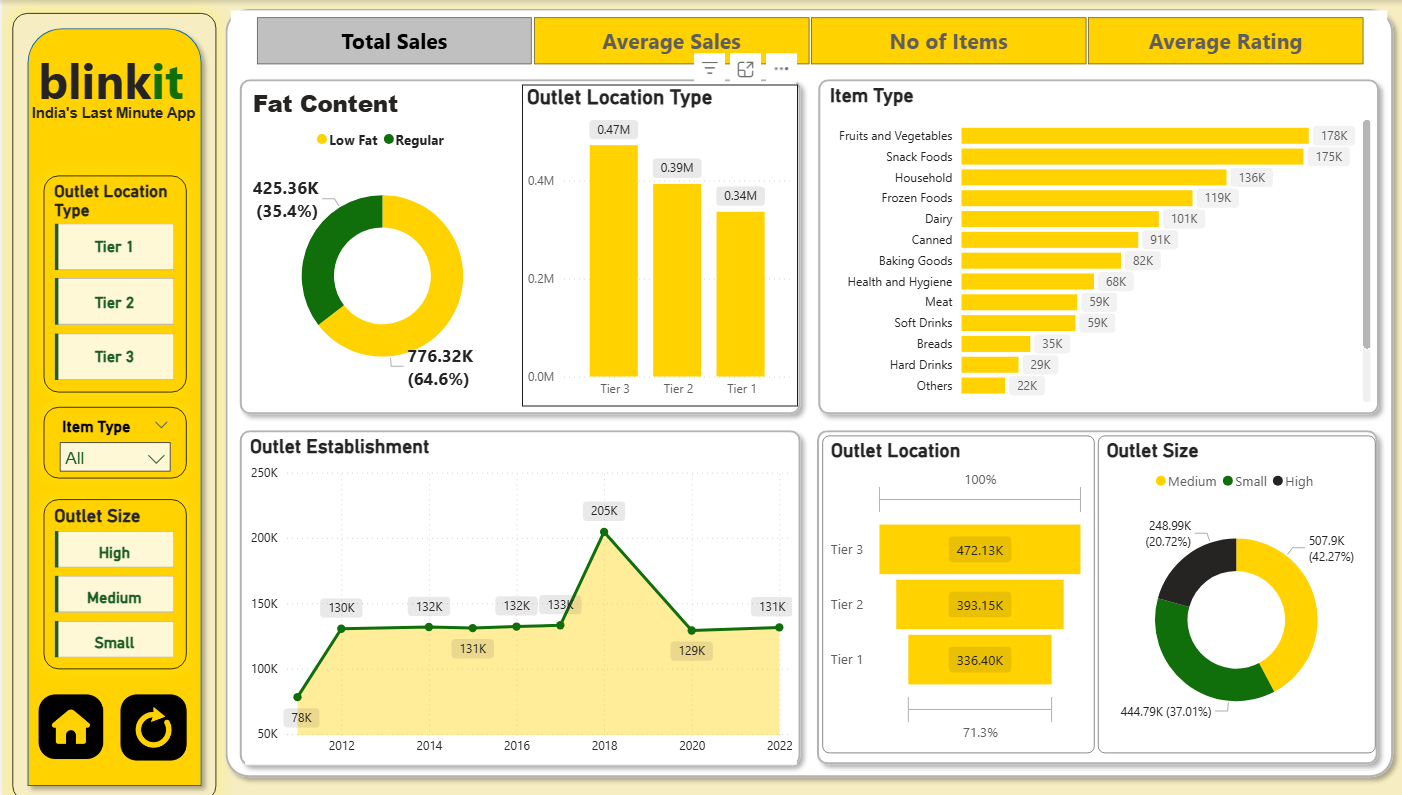

The page's visual inventory and layout, read from the dashboard file:
{"tool":"powerbi","page":{"name":"Page 1","canvas":[1400,800],"ordinal":0},"visuals":[{"type":"shape","box":[10.4,13,204,787.6],"z":0},{"type":"textbox","box":[31,41,175.1,86.1],"z":1000},{"type":"textbox","box":[24.7,97.5,204,39],"z":2000},{"type":"shape","box":[215,0,1185.3,785.9],"z":3000},{"type":"slicer","fields":{"Values":["Metrics.Metrics"]},"box":[228.7,9.9,1156.2,60.7],"z":4000},{"type":"shape","box":[229.1,70.4,578.6,353],"z":5000},{"type":"shape","box":[229.1,421.1,578.6,353.3],"z":6000},{"type":"shape","box":[807.7,70.4,578.6,353],"z":7000},{"type":"shape","box":[806.4,421.1,578.6,352],"z":8000},{"type":"donutChart","title":" Fat Content","fields":{"Y":["BlinkIT Grocery Data.Total Sales"],"Category":["BlinkIT Grocery Data.Item Fat Content"]},"box":[243.2,84.5,275.2,322.6],"z":9000},{"type":"barChart","title":"Item Type","fields":{"Y":["BlinkIT Grocery Data.Total Sales"],"Category":["BlinkIT Grocery Data.Item Type"]},"box":[823,84.5,550.4,322.6],"z":10000},{"type":"lineChart","title":"Outlet Establishment","fields":{"Category":["BlinkIT Grocery Data.Outlet Establishment Year"],"Y":["Sum(BlinkIT Grocery Data.Sales)"]},"box":[243.2,435.2,551.7,329],"z":11000},{"type":"funnel","title":"Outlet Location","fields":{"Y":["BlinkIT Grocery Data.Total Sales"],"Category":["BlinkIT Grocery Data.Outlet Location Type"]},"box":[820,435,272.6,317.4],"z":12000},{"type":"donutChart","title":"Outlet Size","fields":{"Category":["BlinkIT Grocery Data.Outlet Size"],"Y":["Sum(BlinkIT Grocery Data.Sales)"]},"box":[1095.7,435.2,277.8,317.4],"z":13000},{"type":"columnChart","title":"Outlet Location Type","fields":{"Y":["BlinkIT Grocery Data.Total Sales"],"Category":["BlinkIT Grocery Data.Outlet Location Type"]},"box":[519.7,84.5,275.2,322.6],"z":14000},{"type":"advancedSlicerVisual","fields":{"Values":["BlinkIT Grocery Data.Outlet Location Type"]},"box":[41.6,175.4,143,217],"z":15000},{"type":"slicer","fields":{"Values":["BlinkIT Grocery Data.Item Type"]},"box":[41.6,406.8,143,71.5],"z":16000},{"type":"advancedSlicerVisual","fields":{"Values":["BlinkIT Grocery Data.Outlet Size"]},"box":[41.6,499.1,143,170.3],"z":17000},{"type":"image","box":[31.2,688.8,75.4,75.4],"z":18000},{"type":"image","box":[113.1,688.8,76.7,76.7],"z":19000}]}

Visuals, with their boxes in screenshot pixels (x1, y1, x2, y2):
shape: BBox(21, 20, 221, 793)
textbox: BBox(41, 48, 213, 132)
textbox: BBox(35, 103, 235, 141)
shape: BBox(222, 7, 1385, 778)
slicer - Metrics.Metrics: BBox(235, 17, 1370, 77)
shape: BBox(236, 76, 803, 423)
shape: BBox(236, 420, 803, 767)
shape: BBox(803, 76, 1371, 423)
shape: BBox(802, 420, 1370, 766)
" Fat Content" donutChart: BBox(250, 90, 520, 407)
"Item Type" barChart: BBox(818, 90, 1358, 407)
"Outlet Establishment" lineChart: BBox(250, 434, 791, 757)
"Outlet Location" funnel: BBox(815, 434, 1083, 746)
"Outlet Size" donutChart: BBox(1086, 434, 1359, 746)
"Outlet Location Type" columnChart: BBox(521, 90, 791, 407)
advancedSlicerVisual - BlinkIT Grocery Data.Outlet Location Type: BBox(52, 179, 192, 392)
slicer - BlinkIT Grocery Data.Item Type: BBox(52, 406, 192, 477)
advancedSlicerVisual - BlinkIT Grocery Data.Outlet Size: BBox(52, 497, 192, 664)
image: BBox(42, 683, 116, 757)
image: BBox(122, 683, 197, 758)
